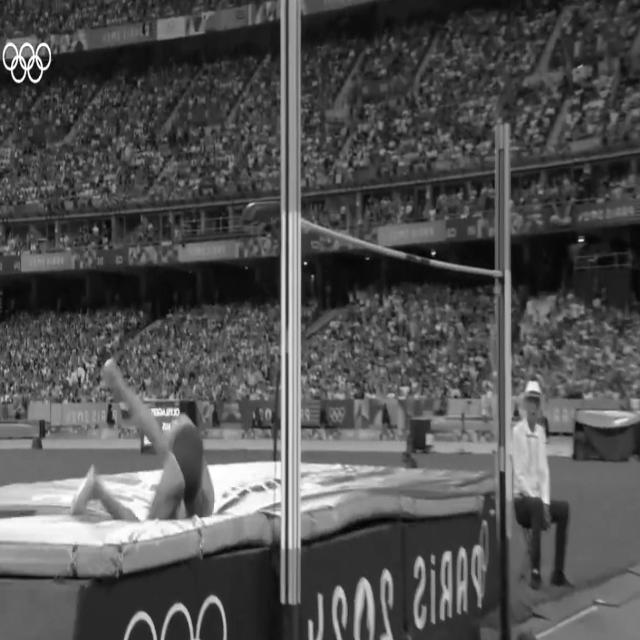land: (70, 360, 214, 521)
